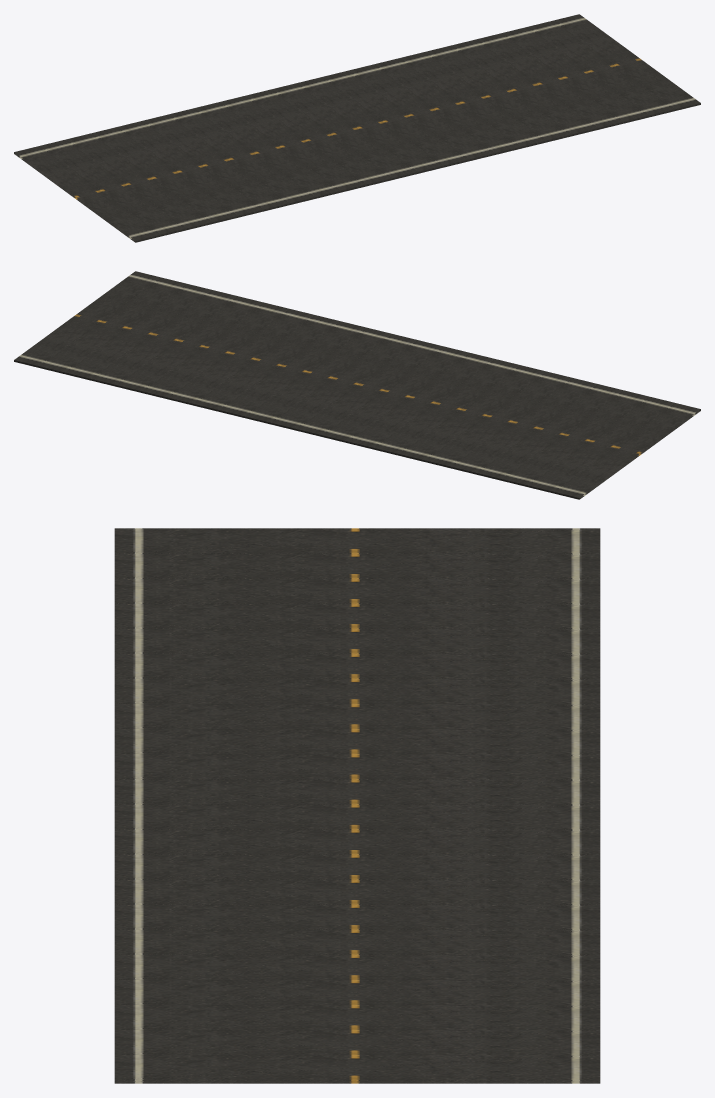
The model's file is Track1P1_Line.fbx.
3 views of the same model, one above another, from view 1: azimuth 30°, elevation 25°; view 2: azimuth 150°, elevation 25°; view 3: azimuth 270°, elevation 25° (orthographic). The views are drawn at different scales.
Parts seen in each view (by area): view 1: Track1P1.Line; view 2: Track1P1.Line; view 3: Track1P1.Line.
Part boxes in pixels (bbox=[...]): Track1P1.Line: bbox=[14, 14, 700, 242]; Track1P1.Line: bbox=[14, 271, 700, 499]; Track1P1.Line: bbox=[114, 528, 600, 1083].
Bounding box in the file's own units: 1100 × 409 × 3.24.
1 material, 1 textured.
